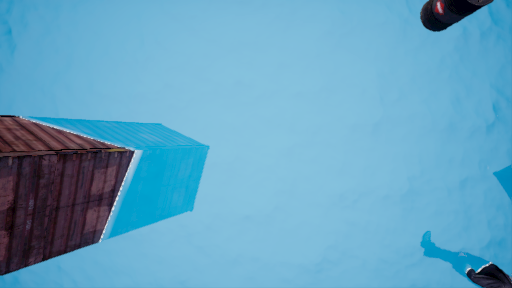person: (426, 235, 508, 288)
